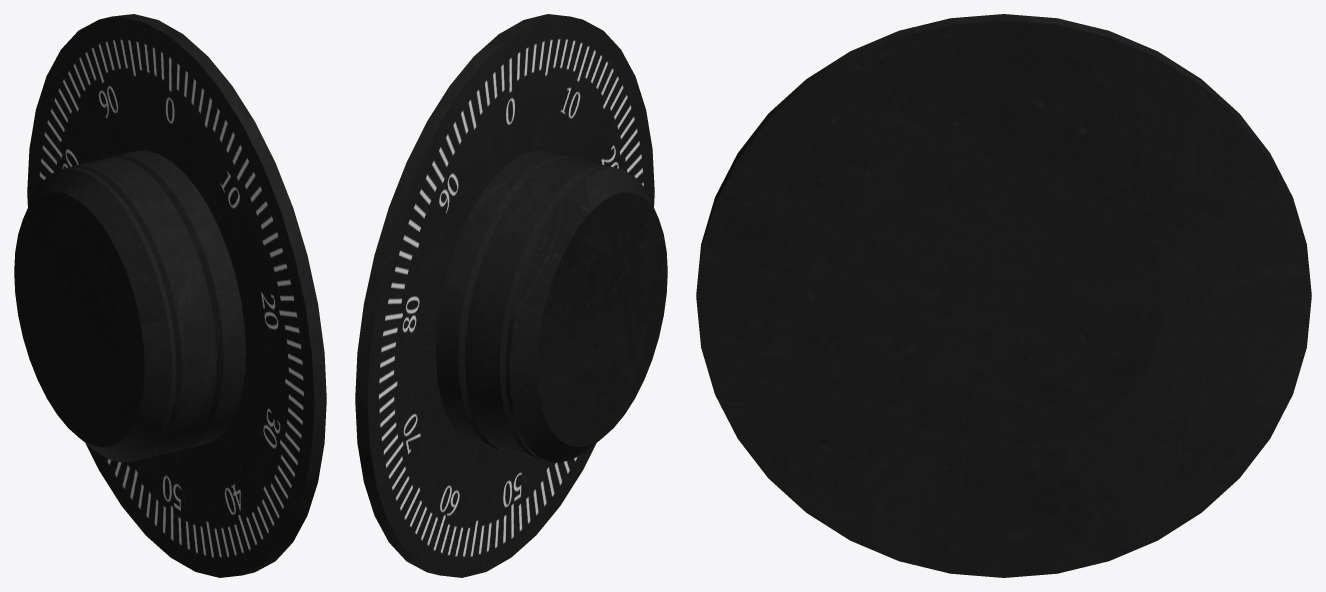
File: SM_Lock.FBX
The picture shows the model from 3 angles, left to right: view 1: azimuth 30°, elevation 25°; view 2: azimuth 150°, elevation 25°; view 3: azimuth 270°, elevation 25°; orthographic projection. The views are drawn at different scales.
Parts seen in each view (by area): view 1: SM_Lock; view 2: SM_Lock; view 3: SM_Lock.
Boxes of the visible parts, x1=… form: SM_Lock: x1=14, y1=14, x2=326, y2=577; SM_Lock: x1=355, y1=14, x2=667, y2=577; SM_Lock: x1=696, y1=14, x2=1311, y2=577.
Bounding box in the file's own units: 1.67 × 8 × 8.
